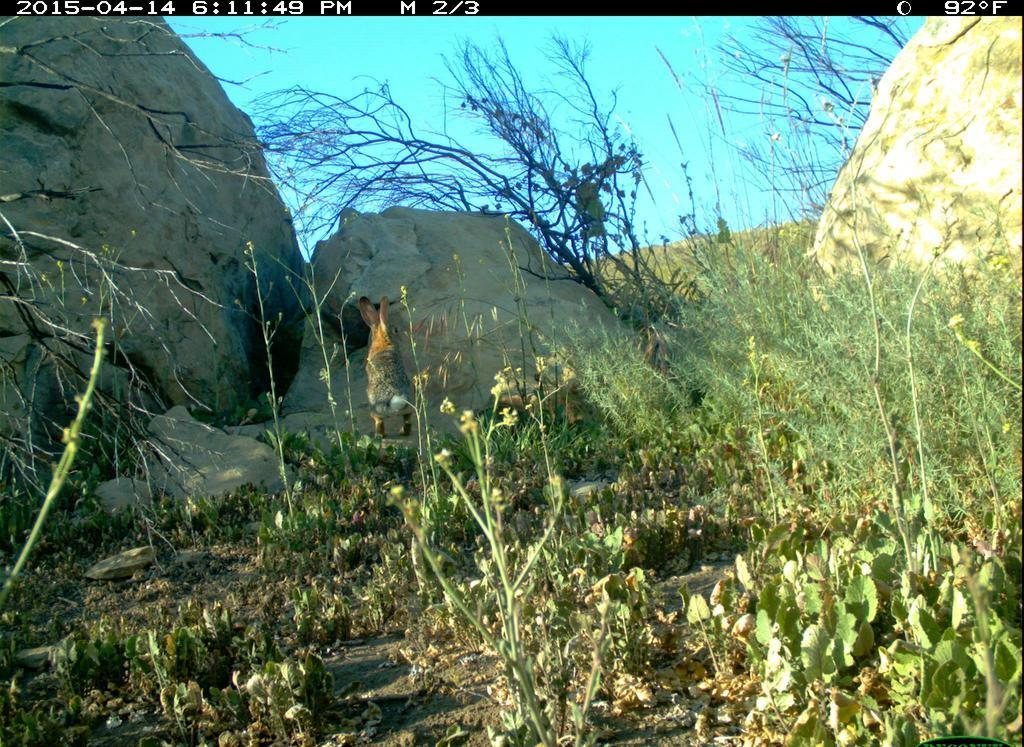rabbit: (354, 292, 423, 442)
